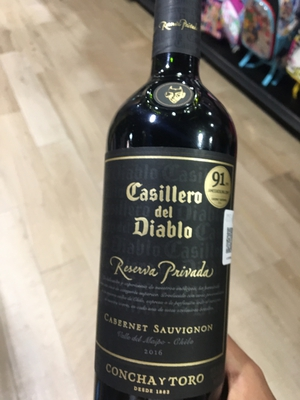casillero del diablo reserva privada cabernet sauvignon: (91, 17, 236, 400)
